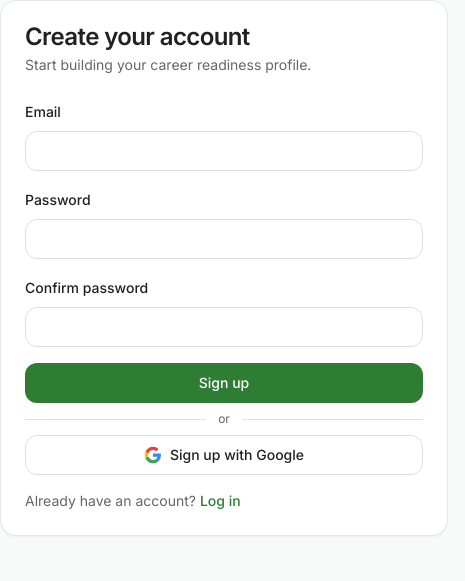
Test: SignupForm › shows validation error when passwords do not match
This screenshot has width=465, height=581.
In the field labelled "Email": (224, 151) [25,131,423,171], type "jane@example.com"
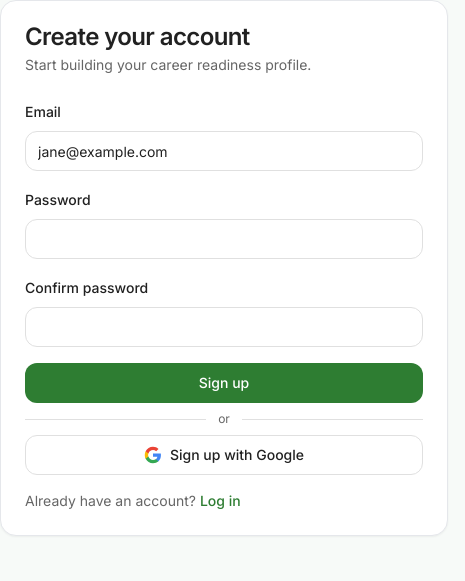
In the password field labelled "Password": (224, 239) [25,219,423,259], type "password123"
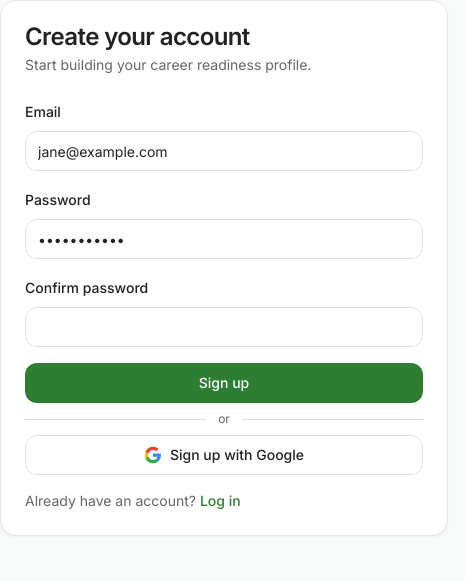
In the password field labelled "Confirm password": (224, 327) [25,307,423,347], type "password456"
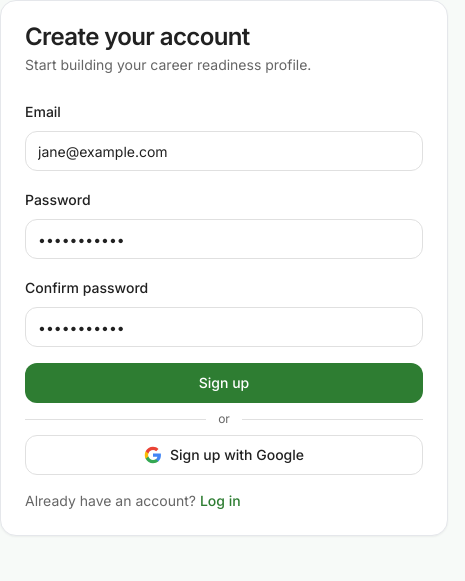
Click the button "Sign up": (224, 383) [25,363,423,403]
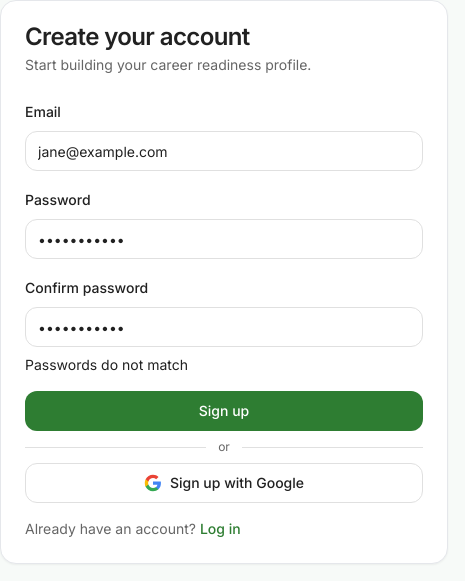
Expected: the text "Passwords do not match" is shown, [25,356,188,373]
